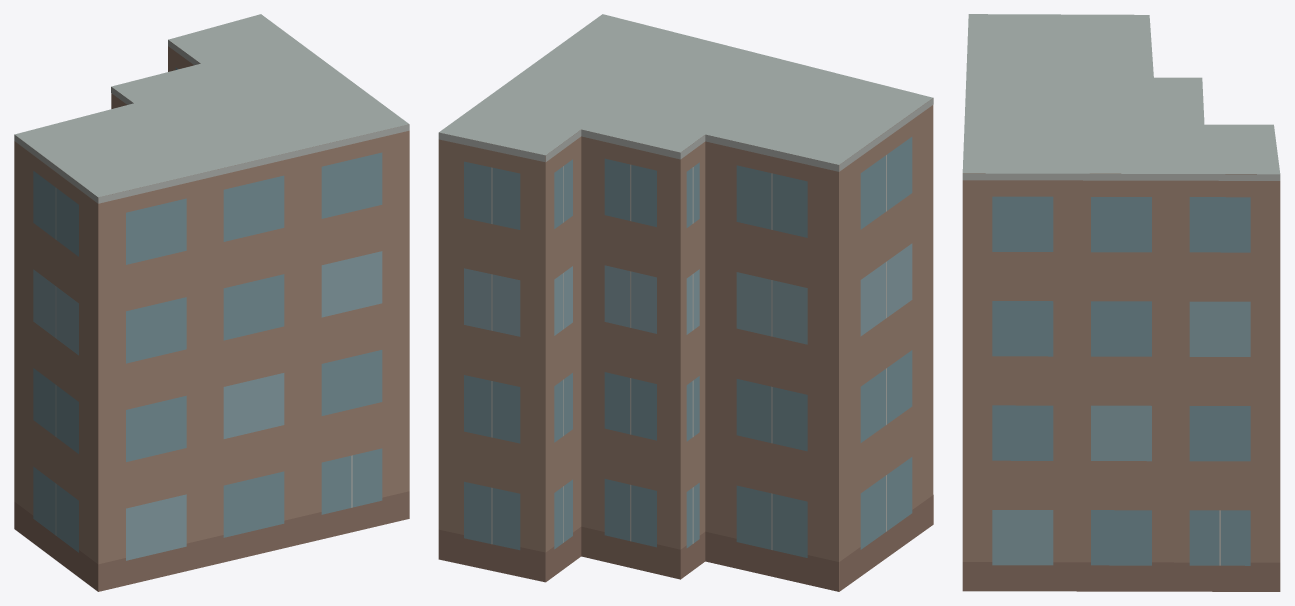
The model's file is survey-upis-32922093.glb.
3 renders of one model, left to right at view 1: azimuth 30°, elevation 25°; view 2: azimuth 150°, elevation 25°; view 3: azimuth 270°, elevation 25°, orthographic. The views are drawn at different scales.
Parts seen in each view (by area): view 1: survey-upis-32922093.tmp; view 2: survey-upis-32922093.tmp; view 3: survey-upis-32922093.tmp.
Boxes of the visible parts, x1,y1,x2,y2 form: survey-upis-32922093.tmp: (14,14,409,591); survey-upis-32922093.tmp: (438,14,933,591); survey-upis-32922093.tmp: (962,14,1280,591).
Bounding box in the file's own units: 12.35 × 15 × 10.35.
